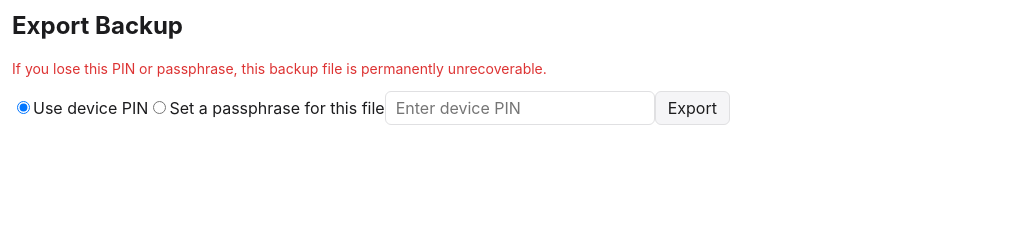
Test: ExportSettings › rejects mismatched passphrases when the passphrase option is chosen
This screenshot has width=1017, height=228.
Click the radio button labelled "Set a passphrase for this file" at (160, 107), box [153,101,166,114]
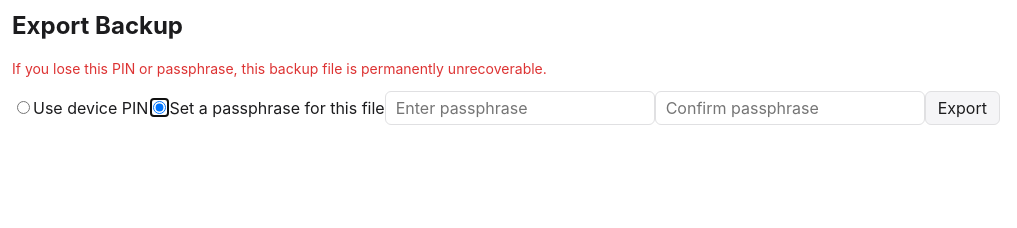
Type "abcd1234" into the password field with placeholder "Enter passphrase" at (520, 108), box [385,91,655,125]
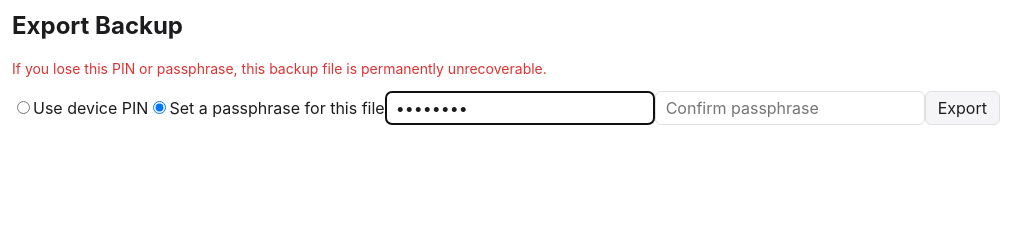
Type "different" into the password field with placeholder "Confirm passphrase" at (790, 108), box [655,91,925,125]
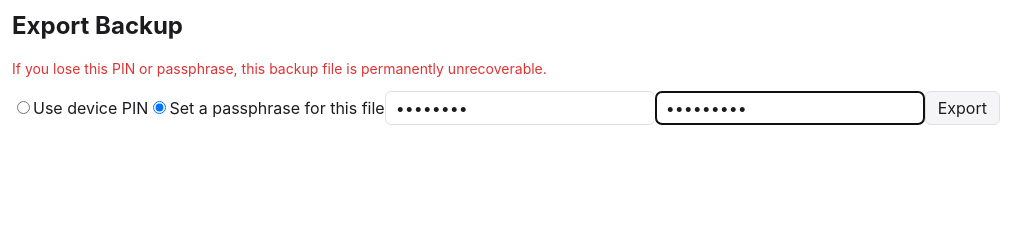
Click the button "Export" at (962, 108), box [925,91,1000,125]
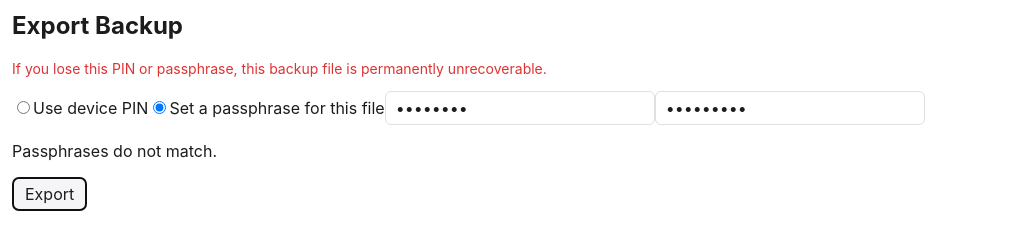
Now the text "Passphrases do not match." is shown, box [12,141,217,161]
